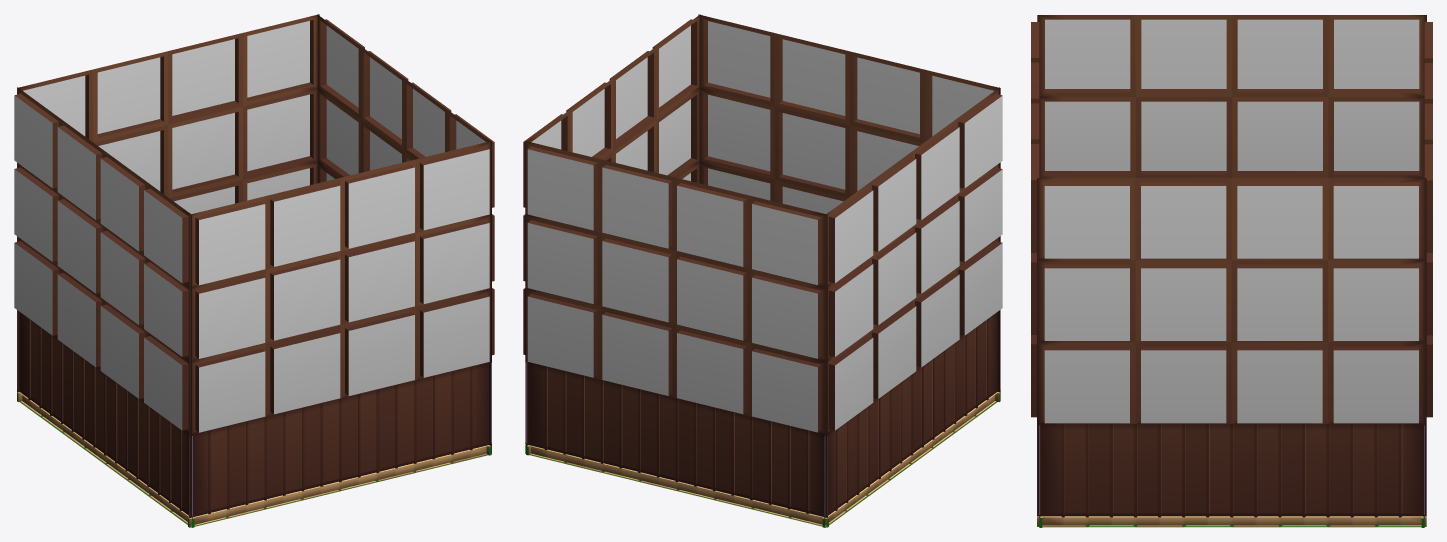
Rendered from Volleyenvironment.fbx.
3 views of the same model, side by side, from view 1: azimuth 30°, elevation 25°; view 2: azimuth 150°, elevation 25°; view 3: azimuth 270°, elevation 25° (orthographic). The views are drawn at different scales.
Parts seen in each view (by area): view 1: Plane.008, Plane.003, Plane.007, Plane.006, Plane.004, Plane.001, Plane.005, Plane.002, Plane; view 2: Plane.006, Plane.001, Plane.007, Plane.004, Plane.008, Plane.003, Plane.005, Plane.002, Plane; view 3: Plane.005, Plane.002, Plane.007, Plane.004, Plane.001, Plane.003, Plane.
Boxes of the visible parts, bbox=[...] form: Plane.008: bbox=[199, 149, 489, 432]; Plane.003: bbox=[188, 141, 491, 527]; Plane.007: bbox=[14, 95, 182, 430]; Plane.006: bbox=[23, 21, 309, 214]; Plane.004: bbox=[15, 87, 194, 527]; Plane.001: bbox=[17, 14, 319, 401]; Plane.005: bbox=[326, 25, 485, 180]; Plane.002: bbox=[317, 14, 494, 455]; Plane: bbox=[20, 401, 488, 526]; Plane.006: bbox=[527, 149, 817, 432]; Plane.001: bbox=[525, 141, 828, 527]; Plane.007: bbox=[835, 96, 1002, 430]; Plane.004: bbox=[822, 87, 1002, 527]; Plane.008: bbox=[708, 21, 993, 213]; Plane.003: bbox=[698, 14, 1000, 401]; Plane.005: bbox=[531, 25, 690, 180]; Plane.002: bbox=[523, 14, 700, 455]; Plane: bbox=[529, 401, 997, 526]; Plane.005: bbox=[1044, 186, 1418, 423]; Plane.002: bbox=[1037, 178, 1426, 526]; Plane.007: bbox=[1045, 19, 1419, 170]; Plane.004: bbox=[1037, 15, 1426, 177]; Plane.001: bbox=[1421, 22, 1432, 527]; Plane.003: bbox=[1031, 22, 1042, 527]; Plane: bbox=[1042, 525, 1421, 527].
Size of the model in its own units: 52162 by 50431 by 52162.
4 materials, 4 textured.
